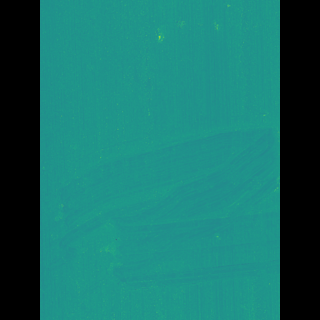Loch: (75, 115, 251, 299)
